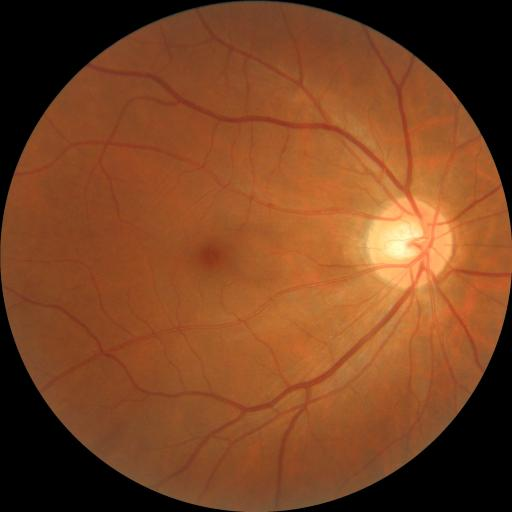Optic Cup: (385, 221, 427, 260)
Optic Disc: (366, 198, 453, 289)
